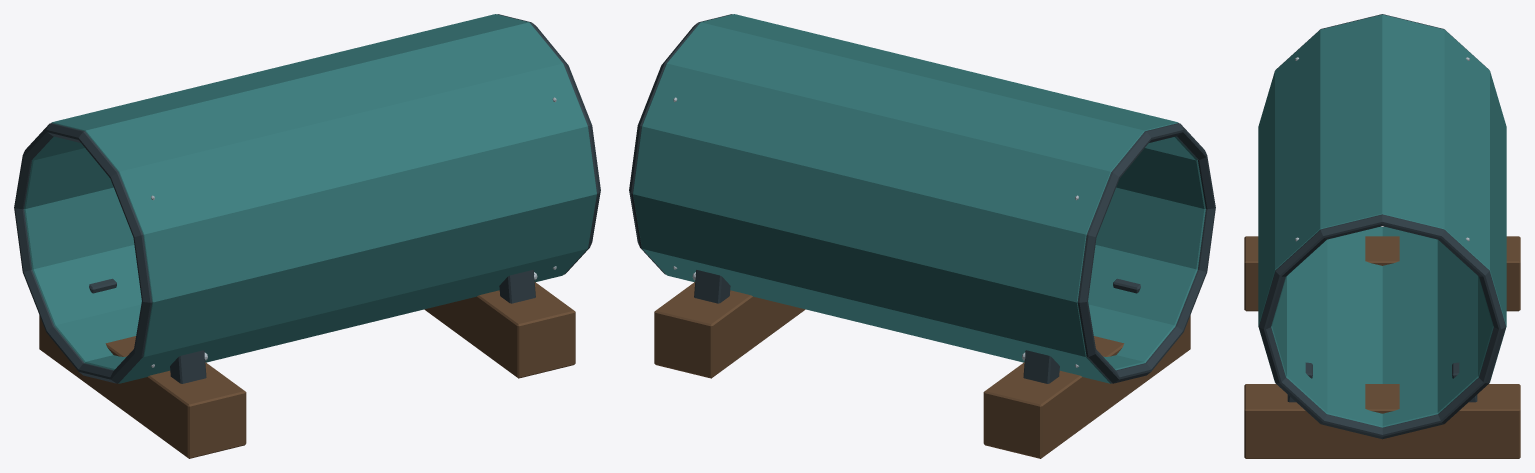
Rendered from b09_crawl_tunnel.glb.
3 views of the same model, side by side, from view 1: azimuth 30°, elevation 25°; view 2: azimuth 150°, elevation 25°; view 3: azimuth 270°, elevation 25° (orthographic). The views are drawn at different scales.
Visible parts, largest first — view 1: b09_crawl_tunnel; view 2: b09_crawl_tunnel; view 3: b09_crawl_tunnel.
Part boxes in pixels (box(x1,y1,x2,y2)): b09_crawl_tunnel: box(14, 14, 600, 458); b09_crawl_tunnel: box(629, 14, 1215, 458); b09_crawl_tunnel: box(1244, 14, 1520, 458).
Size of the model in its own units: 2.11 by 1.24 by 1.2.
